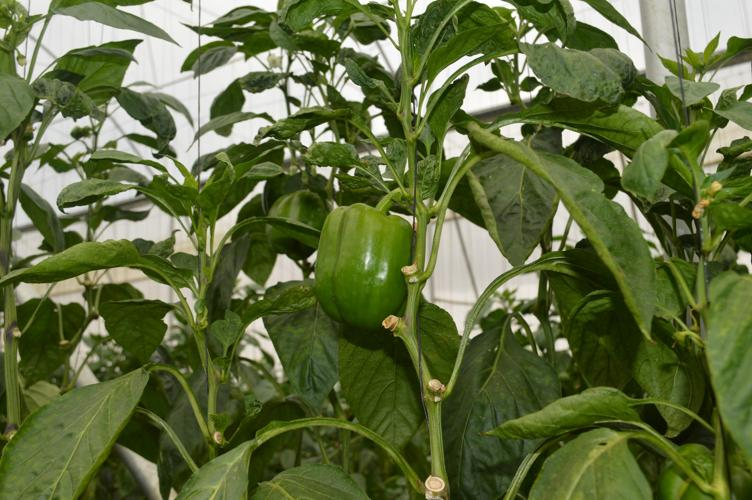BellPepper: (312, 200, 428, 340), (266, 183, 344, 261)
